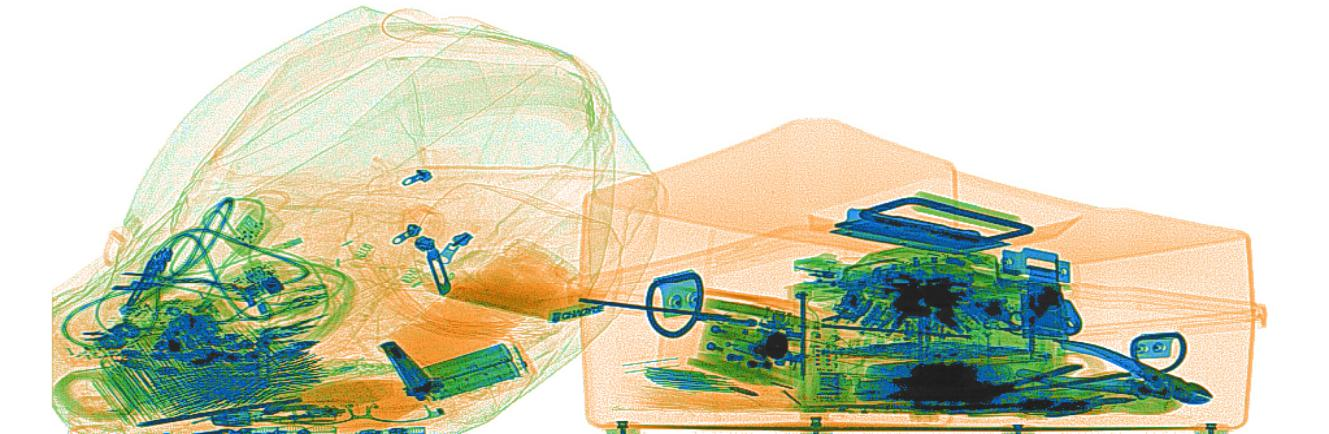battery: (413, 341, 522, 404)
